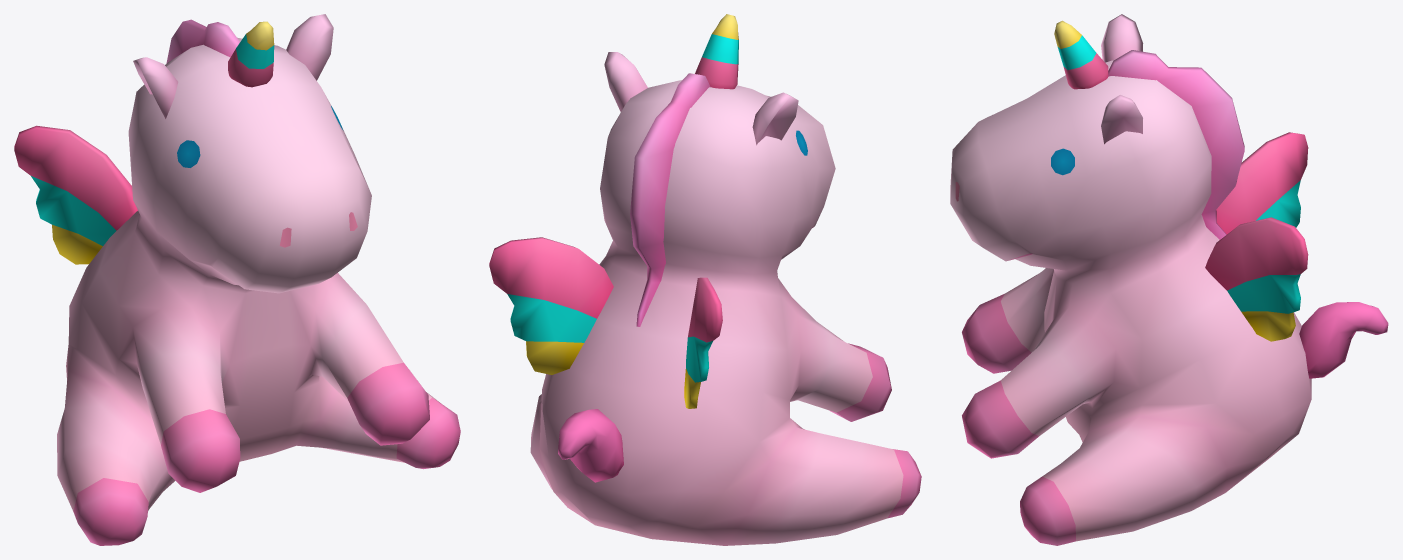
File: unicorn.fbx
The picture shows the model from 3 angles, left to right: view 1: azimuth 30°, elevation 25°; view 2: azimuth 150°, elevation 25°; view 3: azimuth 270°, elevation 25°; orthographic projection. The views are drawn at different scales.
Parts seen in each view (by area): view 1: unicorn; view 2: unicorn; view 3: unicorn.
Part boxes in pixels (<box>): unicorn: <box>14,14,460,545</box>; unicorn: <box>489,14,921,545</box>; unicorn: <box>950,14,1388,545</box>.
Bounding box in the file's own units: 24.07 × 29.12 × 25.95.
